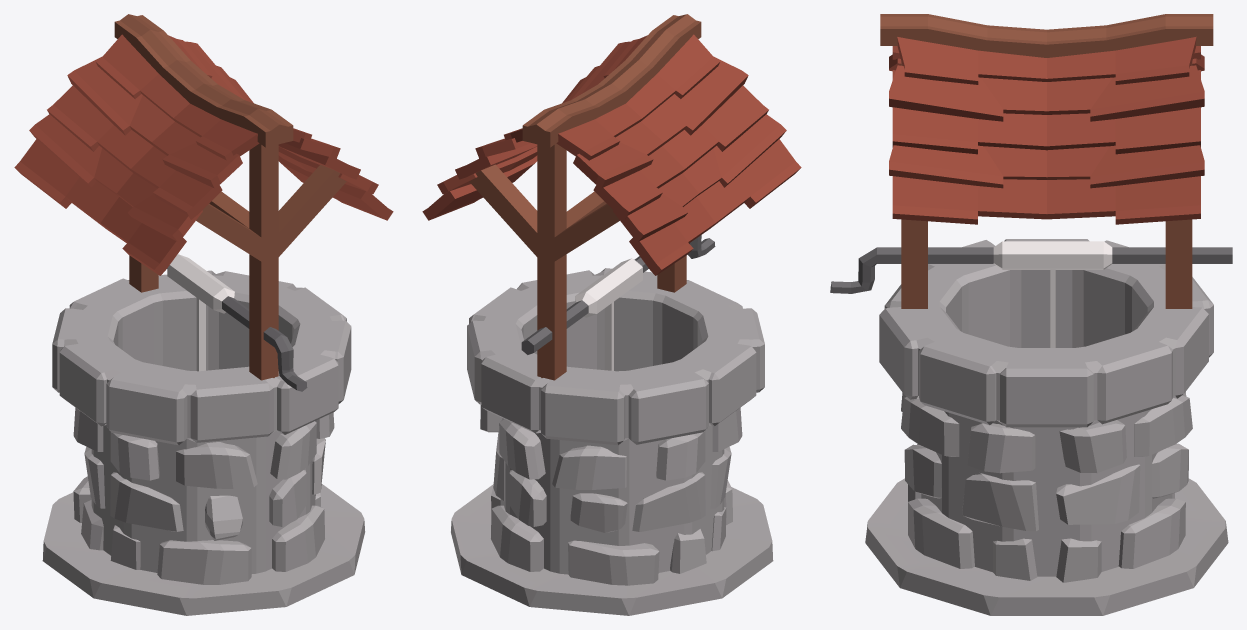
File: well.glb
The picture shows the model from 3 angles, left to right: view 1: azimuth 30°, elevation 25°; view 2: azimuth 150°, elevation 25°; view 3: azimuth 270°, elevation 25°; orthographic projection. The views are drawn at different scales.
Visible parts, largest first — view 1: Well; view 2: Well; view 3: Well.
Part boxes in pixels (<box>): Well: <box>14,14,393,615</box>; Well: <box>422,14,801,615</box>; Well: <box>830,14,1232,615</box>.
Bounding box in the file's own units: 1.28 × 2.15 × 1.49.
1 material, 1 textured.
